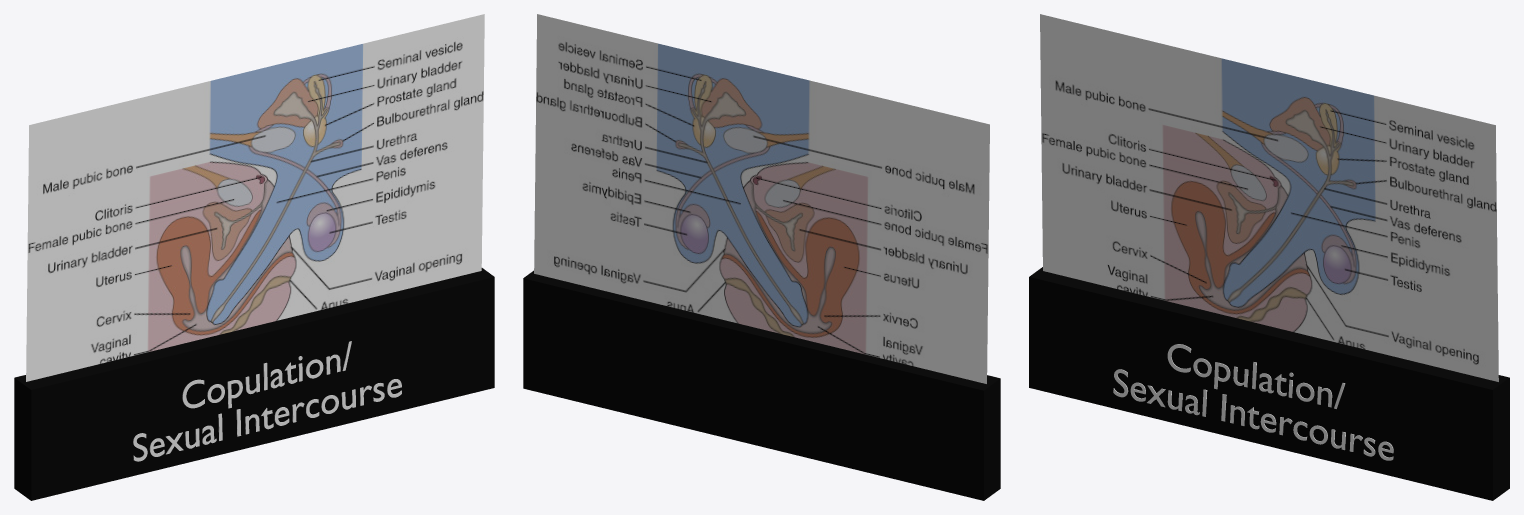
Rendered from sexeduc.gltf.
3 renders of one model, left to right at view 1: azimuth 30°, elevation 25°; view 2: azimuth 150°, elevation 25°; view 3: azimuth 330°, elevation 25°, orthographic.
Visible parts, largest first — view 1: sexeduc, Cube.002, Text.002; view 2: sexeduc, Cube.002; view 3: sexeduc, Cube.002, Text.002.
Part boxes in pixels (box(x1,y1,x2,y2)): sexeduc: box(26, 14, 484, 381); Cube.002: box(14, 268, 494, 500); Text.002: box(133, 341, 401, 461); sexeduc: box(534, 14, 989, 383); Cube.002: box(523, 270, 1000, 500); sexeduc: box(1040, 14, 1498, 381); Cube.002: box(1029, 267, 1509, 500); Text.002: box(1113, 344, 1393, 460).
Bounding box in the file's own units: 3.34 × 2.55 × 0.3284.
2 materials, 1 textured.
